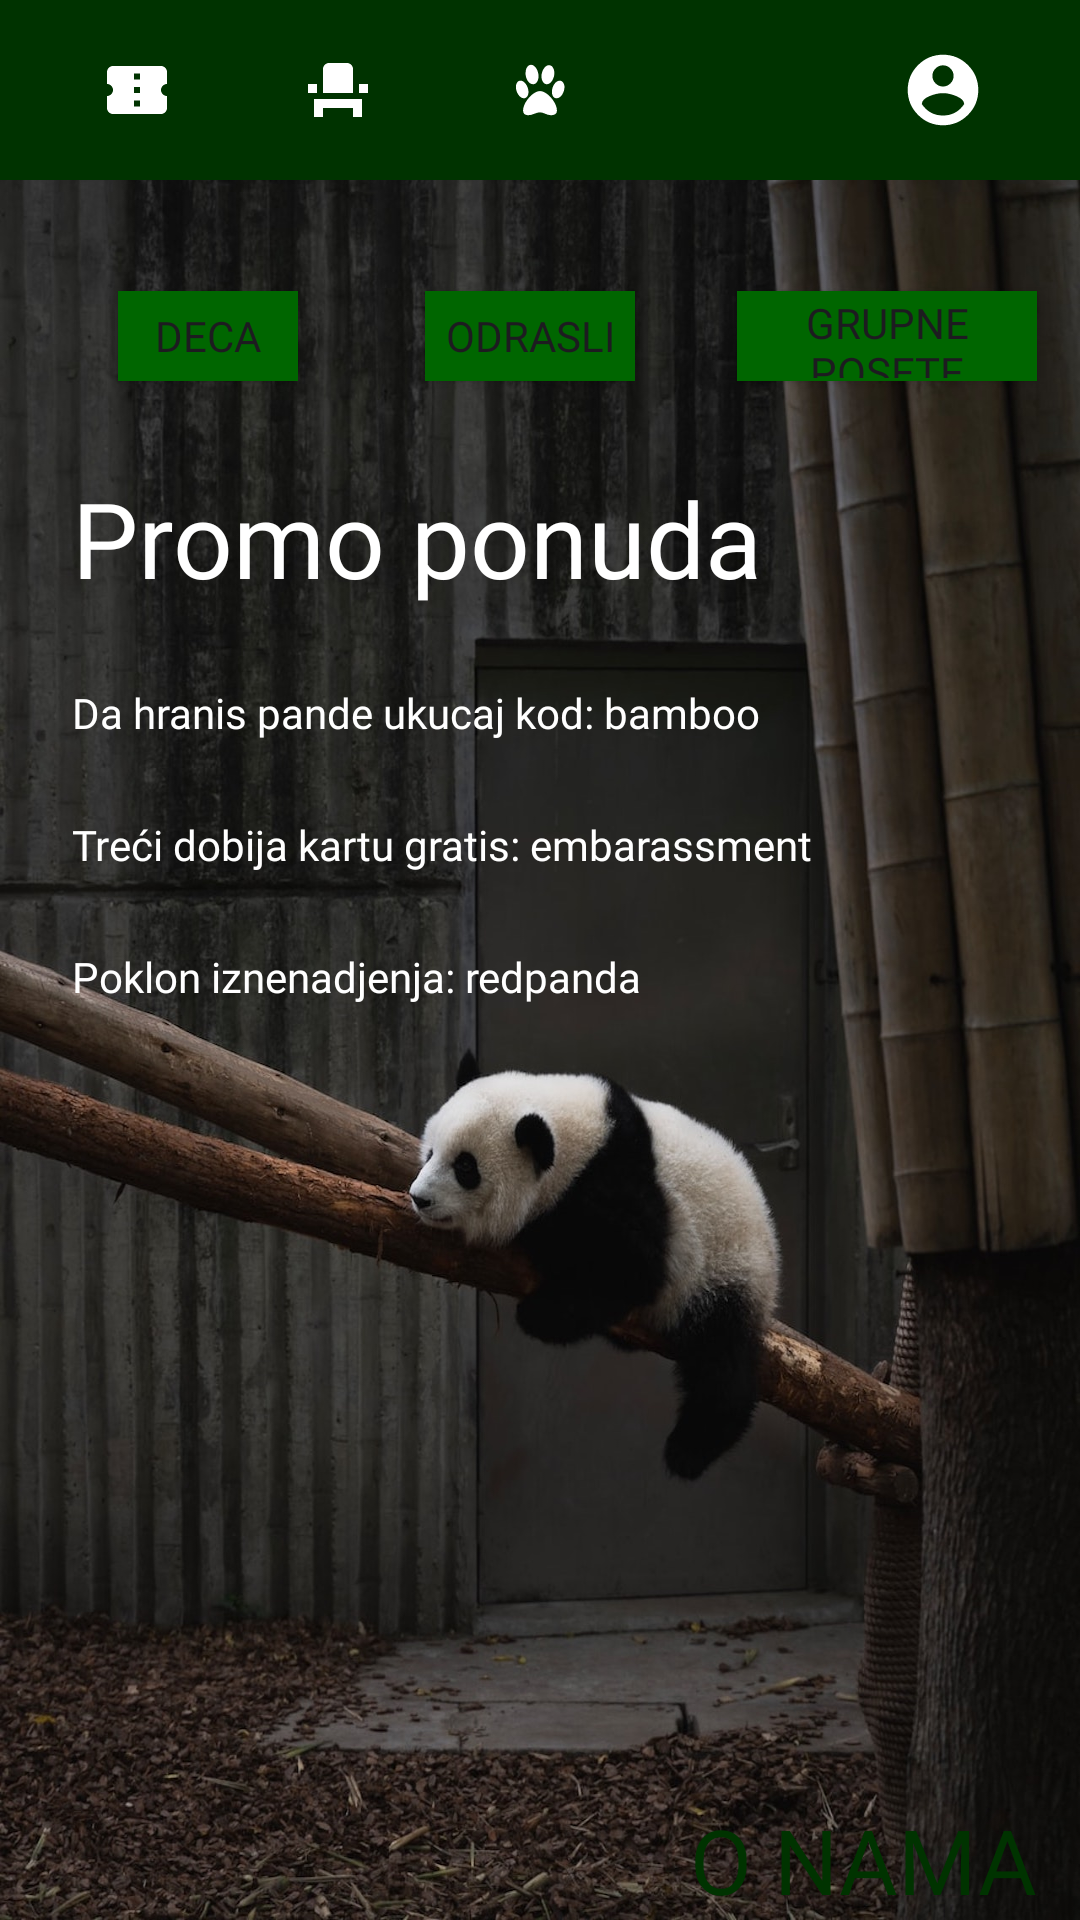

Icons on this 1080px x 1920px Android screen, each with its box as (x1,y1,x2,y2):
account: (907,54,979,126)
confirmation number: (107,66,167,114)
event seat: (308,63,368,117)
pets: (516,64,565,116)
